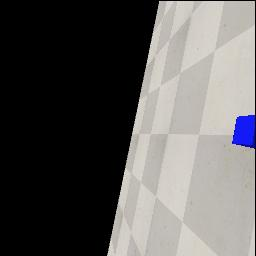box: (232, 114, 255, 149)
